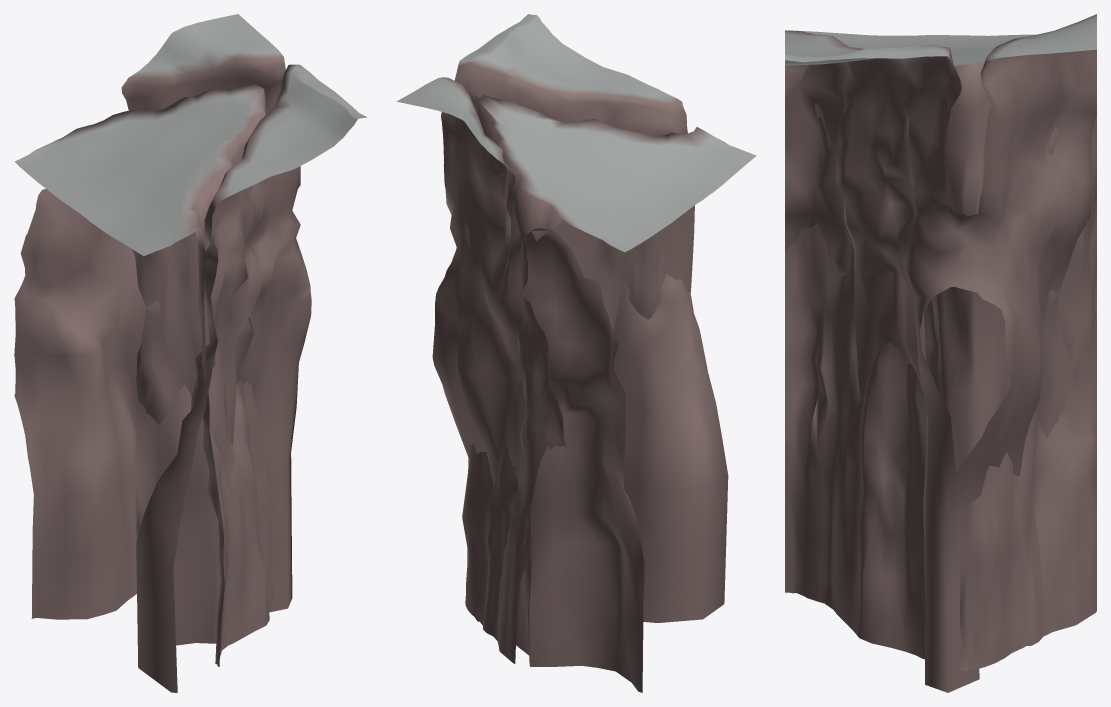
3 renders of one model, left to right at view 1: azimuth 30°, elevation 25°; view 2: azimuth 150°, elevation 25°; view 3: azimuth 270°, elevation 25°, orthographic. The views are drawn at different scales.
Parts seen in each view (by area): view 1: G:\FFXIV-MapTools\exports\u5f1\bg\ex4\04_uvs_u5\fld\u5f1\bgp (×12); view 2: G:\FFXIV-MapTools\exports\u5f1\bg\ex4\04_uvs_u5\fld\u5f1\bgp (×12); view 3: G:\FFXIV-MapTools\exports\u5f1\bg\ex4\04_uvs_u5\fld\u5f1\bgp (×6).
Boxes of the visible parts, x1,y1,x2,y2 form: G:\FFXIV-MapTools\exports\u5f1\bg\ex4\04_uvs_u5\fld\u5f1\bgp (×12): (14,14,367,692); G:\FFXIV-MapTools\exports\u5f1\bg\ex4\04_uvs_u5\fld\u5f1\bgp (×12): (396,14,756,692); G:\FFXIV-MapTools\exports\u5f1\bg\ex4\04_uvs_u5\fld\u5f1\bgp (×6): (785,14,1096,692).
Bounding box in the file's own units: 128 × 295 × 128.
